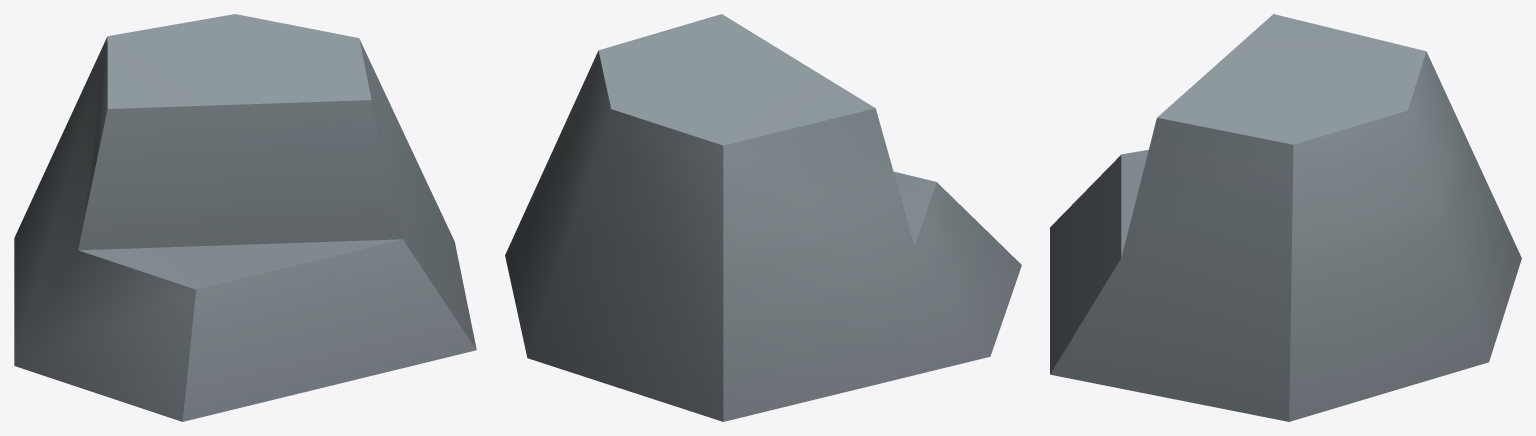
Rendered from d_kaykit_caillou_b.glb.
The picture shows the model from 3 angles, left to right: view 1: azimuth 30°, elevation 25°; view 2: azimuth 150°, elevation 25°; view 3: azimuth 270°, elevation 25°; orthographic projection. The views are drawn at different scales.
Parts seen in each view (by area): view 1: d_kaykit_caillou_b; view 2: d_kaykit_caillou_b; view 3: d_kaykit_caillou_b.
Boxes of the visible parts, x1,y1,x2,y2 form: d_kaykit_caillou_b: (14,14,476,421); d_kaykit_caillou_b: (505,14,1021,421); d_kaykit_caillou_b: (1050,14,1521,421).
Bounding box in the file's own units: 0.2866 × 0.1346 × 0.2497.
1 material, 1 textured.
